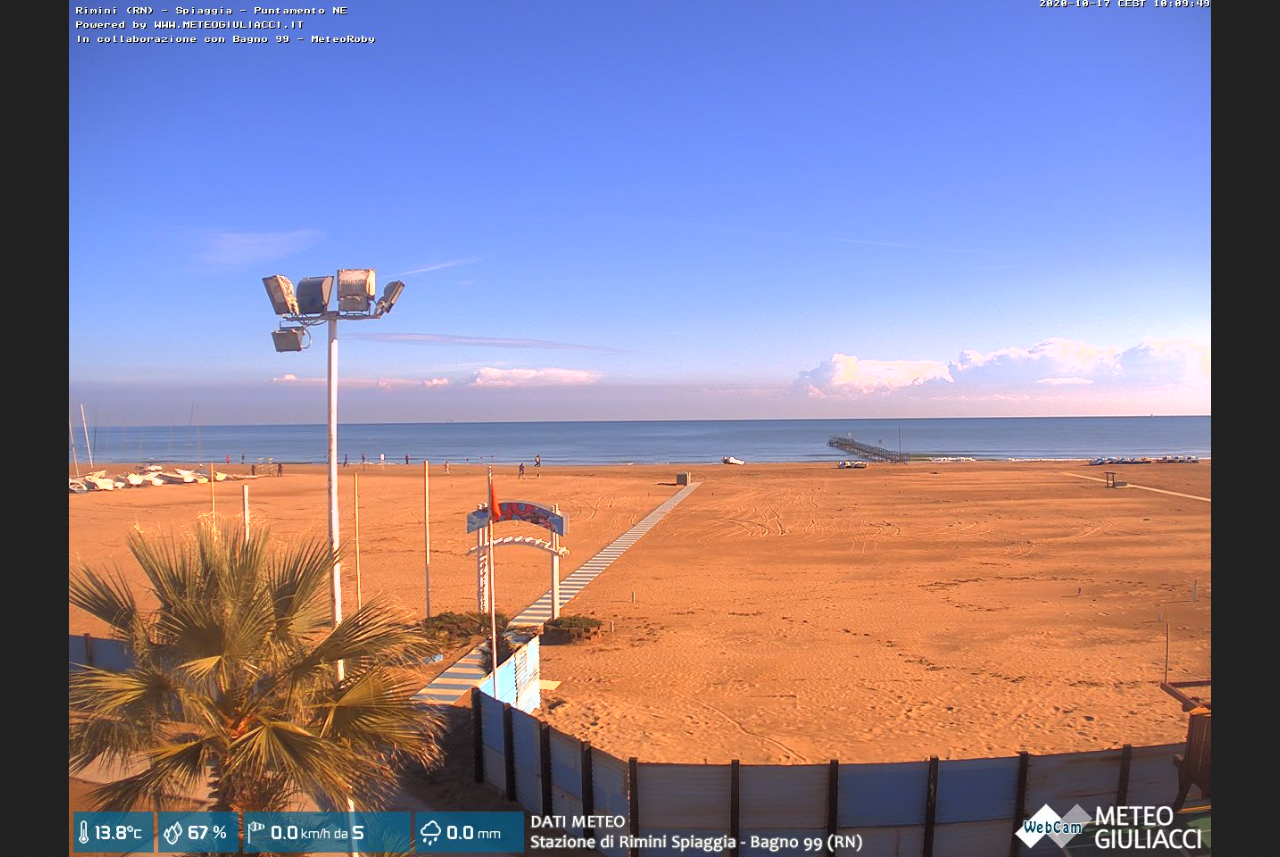no: (483, 469, 505, 523)
